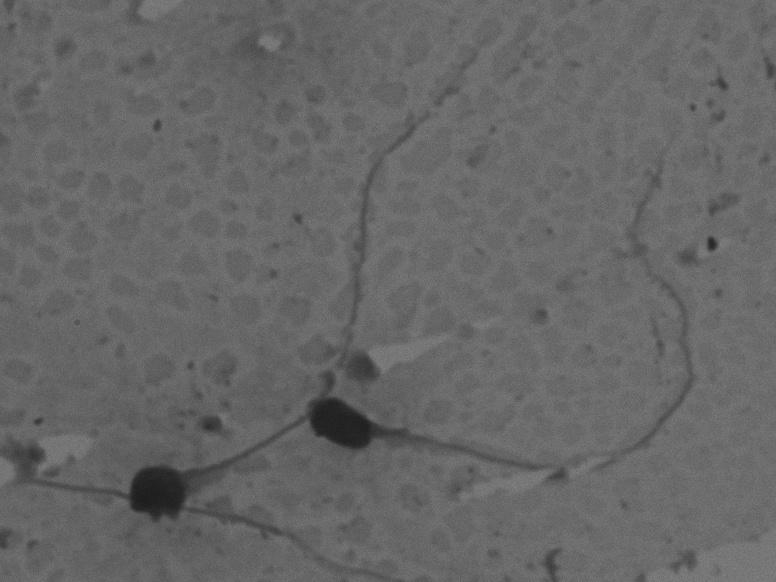Abnormal: (105, 34, 506, 543), (298, 139, 714, 500)
